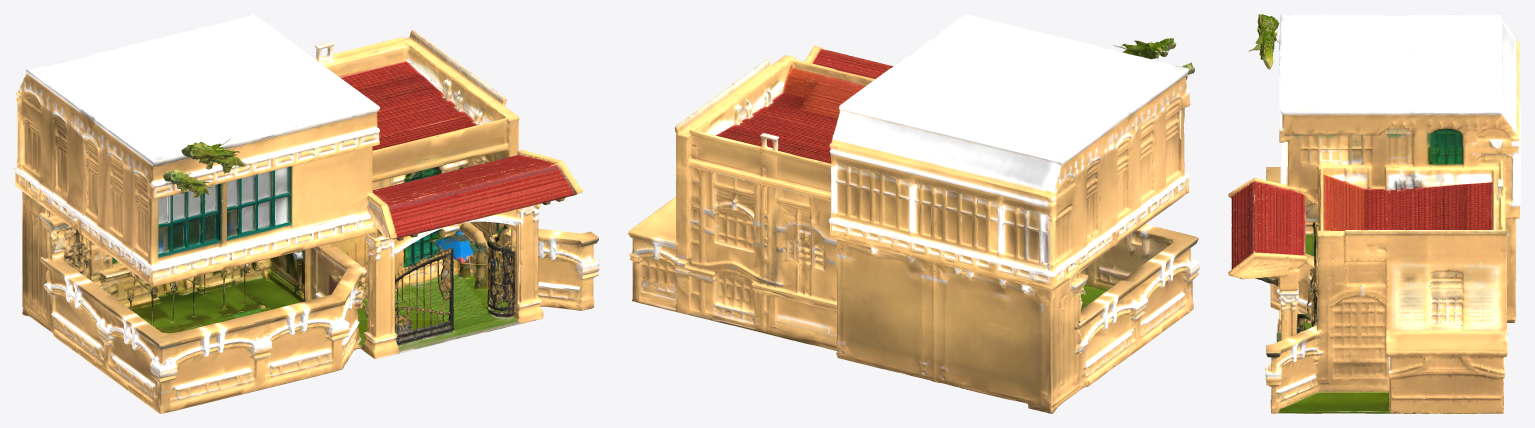
File: thptnq.glb
3 renders of one model, left to right at view 1: azimuth 30°, elevation 25°; view 2: azimuth 150°, elevation 25°; view 3: azimuth 270°, elevation 25°, orthographic. The views are drawn at different scales.
Visible parts, largest first — view 1: Mesh_0; view 2: Mesh_0; view 3: Mesh_0.
Part boxes in pixels (x1,y1,x2,y2): Mesh_0: [14, 14, 599, 413]; Mesh_0: [628, 14, 1199, 413]; Mesh_0: [1228, 14, 1520, 413].
Bounding box in the file's own units: 1.91 × 1.11 × 1.27.
1 material, 1 textured.
